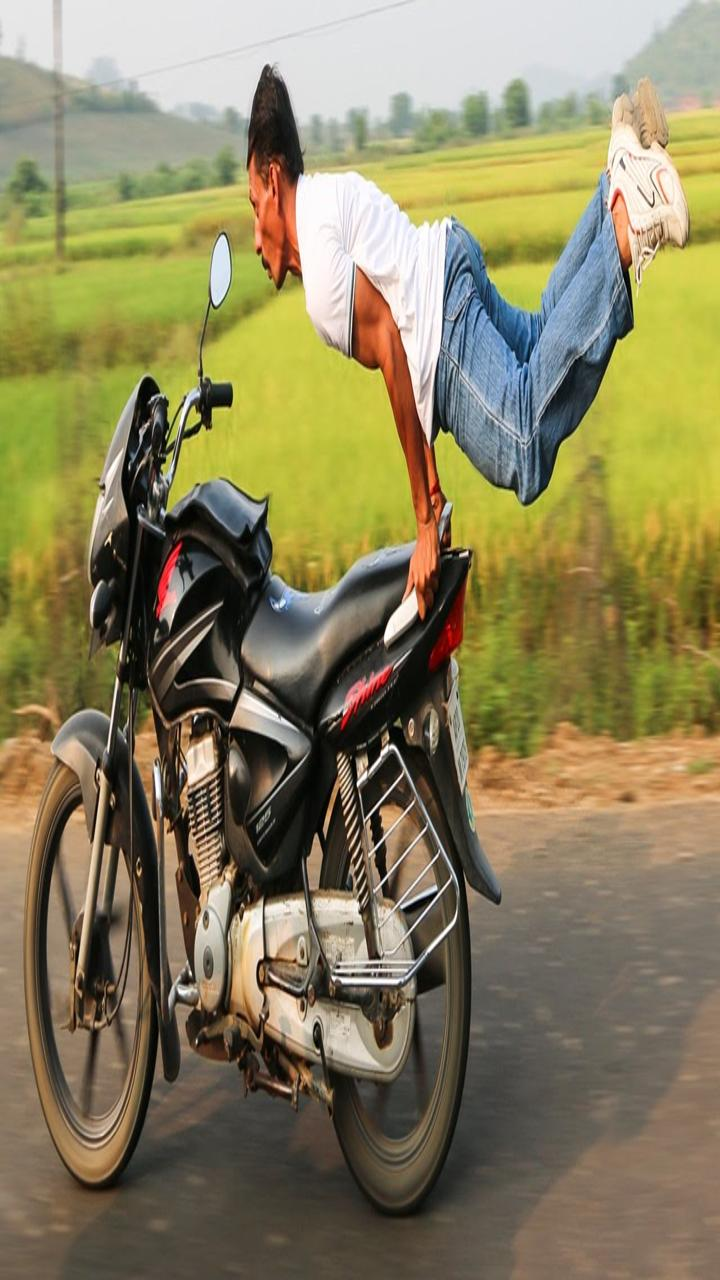cyclist: (226, 65, 715, 484)
motorcycle: (10, 351, 503, 1224)
